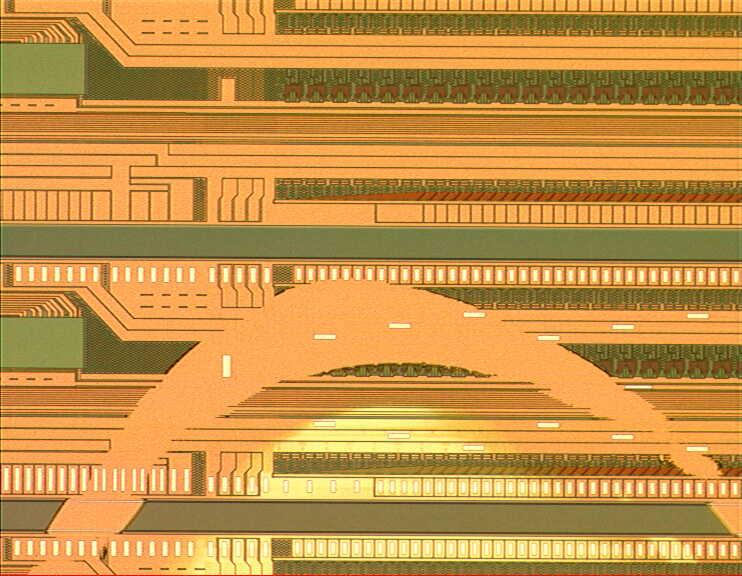BLOCK ETCH: (22, 278, 742, 576)
